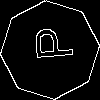P: (25, 25, 74, 62)
